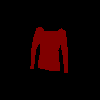maglia: (30, 26, 68, 72)
